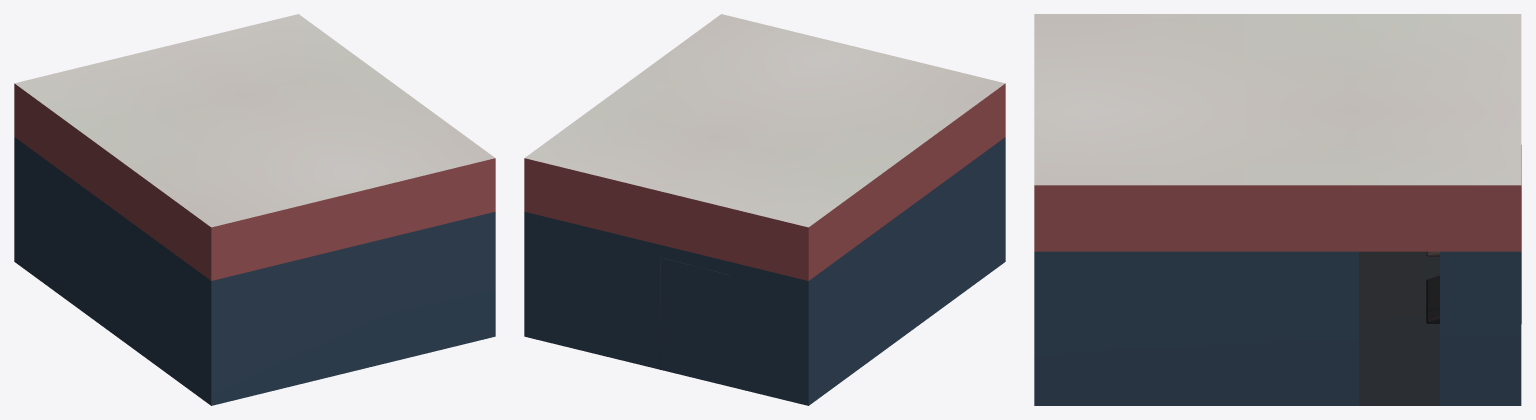
File: Room_Mdl.fbx
3 renders of one model, left to right at view 1: azimuth 30°, elevation 25°; view 2: azimuth 150°, elevation 25°; view 3: azimuth 270°, elevation 25°, orthographic. The views are drawn at different scales.
Visible parts, largest first — view 1: Room_Mdl; view 2: Room_Mdl; view 3: Room_Mdl, SlotMachineMain_Mdl.
Part boxes in pixels (x1=…): Room_Mdl: x1=14, y1=14, x2=495, y2=405; Room_Mdl: x1=524, y1=14, x2=1005, y2=405; Room_Mdl: x1=1034, y1=14, x2=1521, y2=405; SlotMachineMain_Mdl: x1=1426, y1=145, x2=1521, y2=323.
Bounding box in the file's own units: 5 × 3.11 × 6.
1 material, 1 textured.
